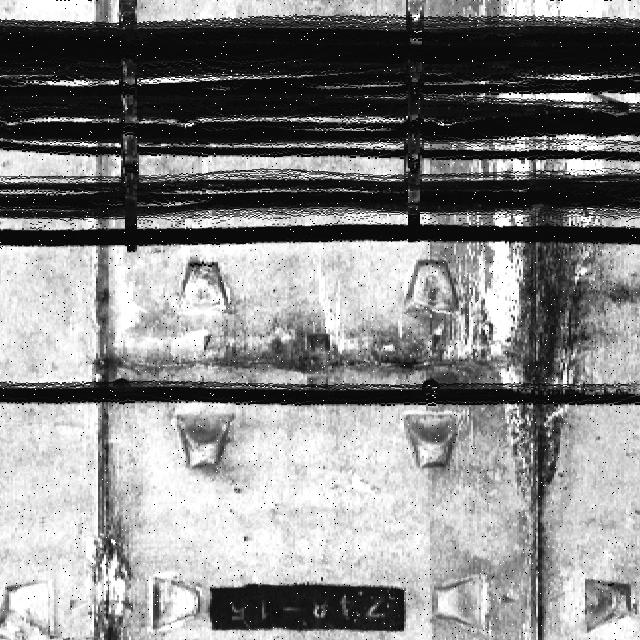leakage: (482, 123, 612, 626)
